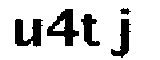4: (46, 4, 79, 50)
j: (109, 3, 133, 60)
t: (80, 10, 104, 49)
u: (9, 17, 44, 49)
